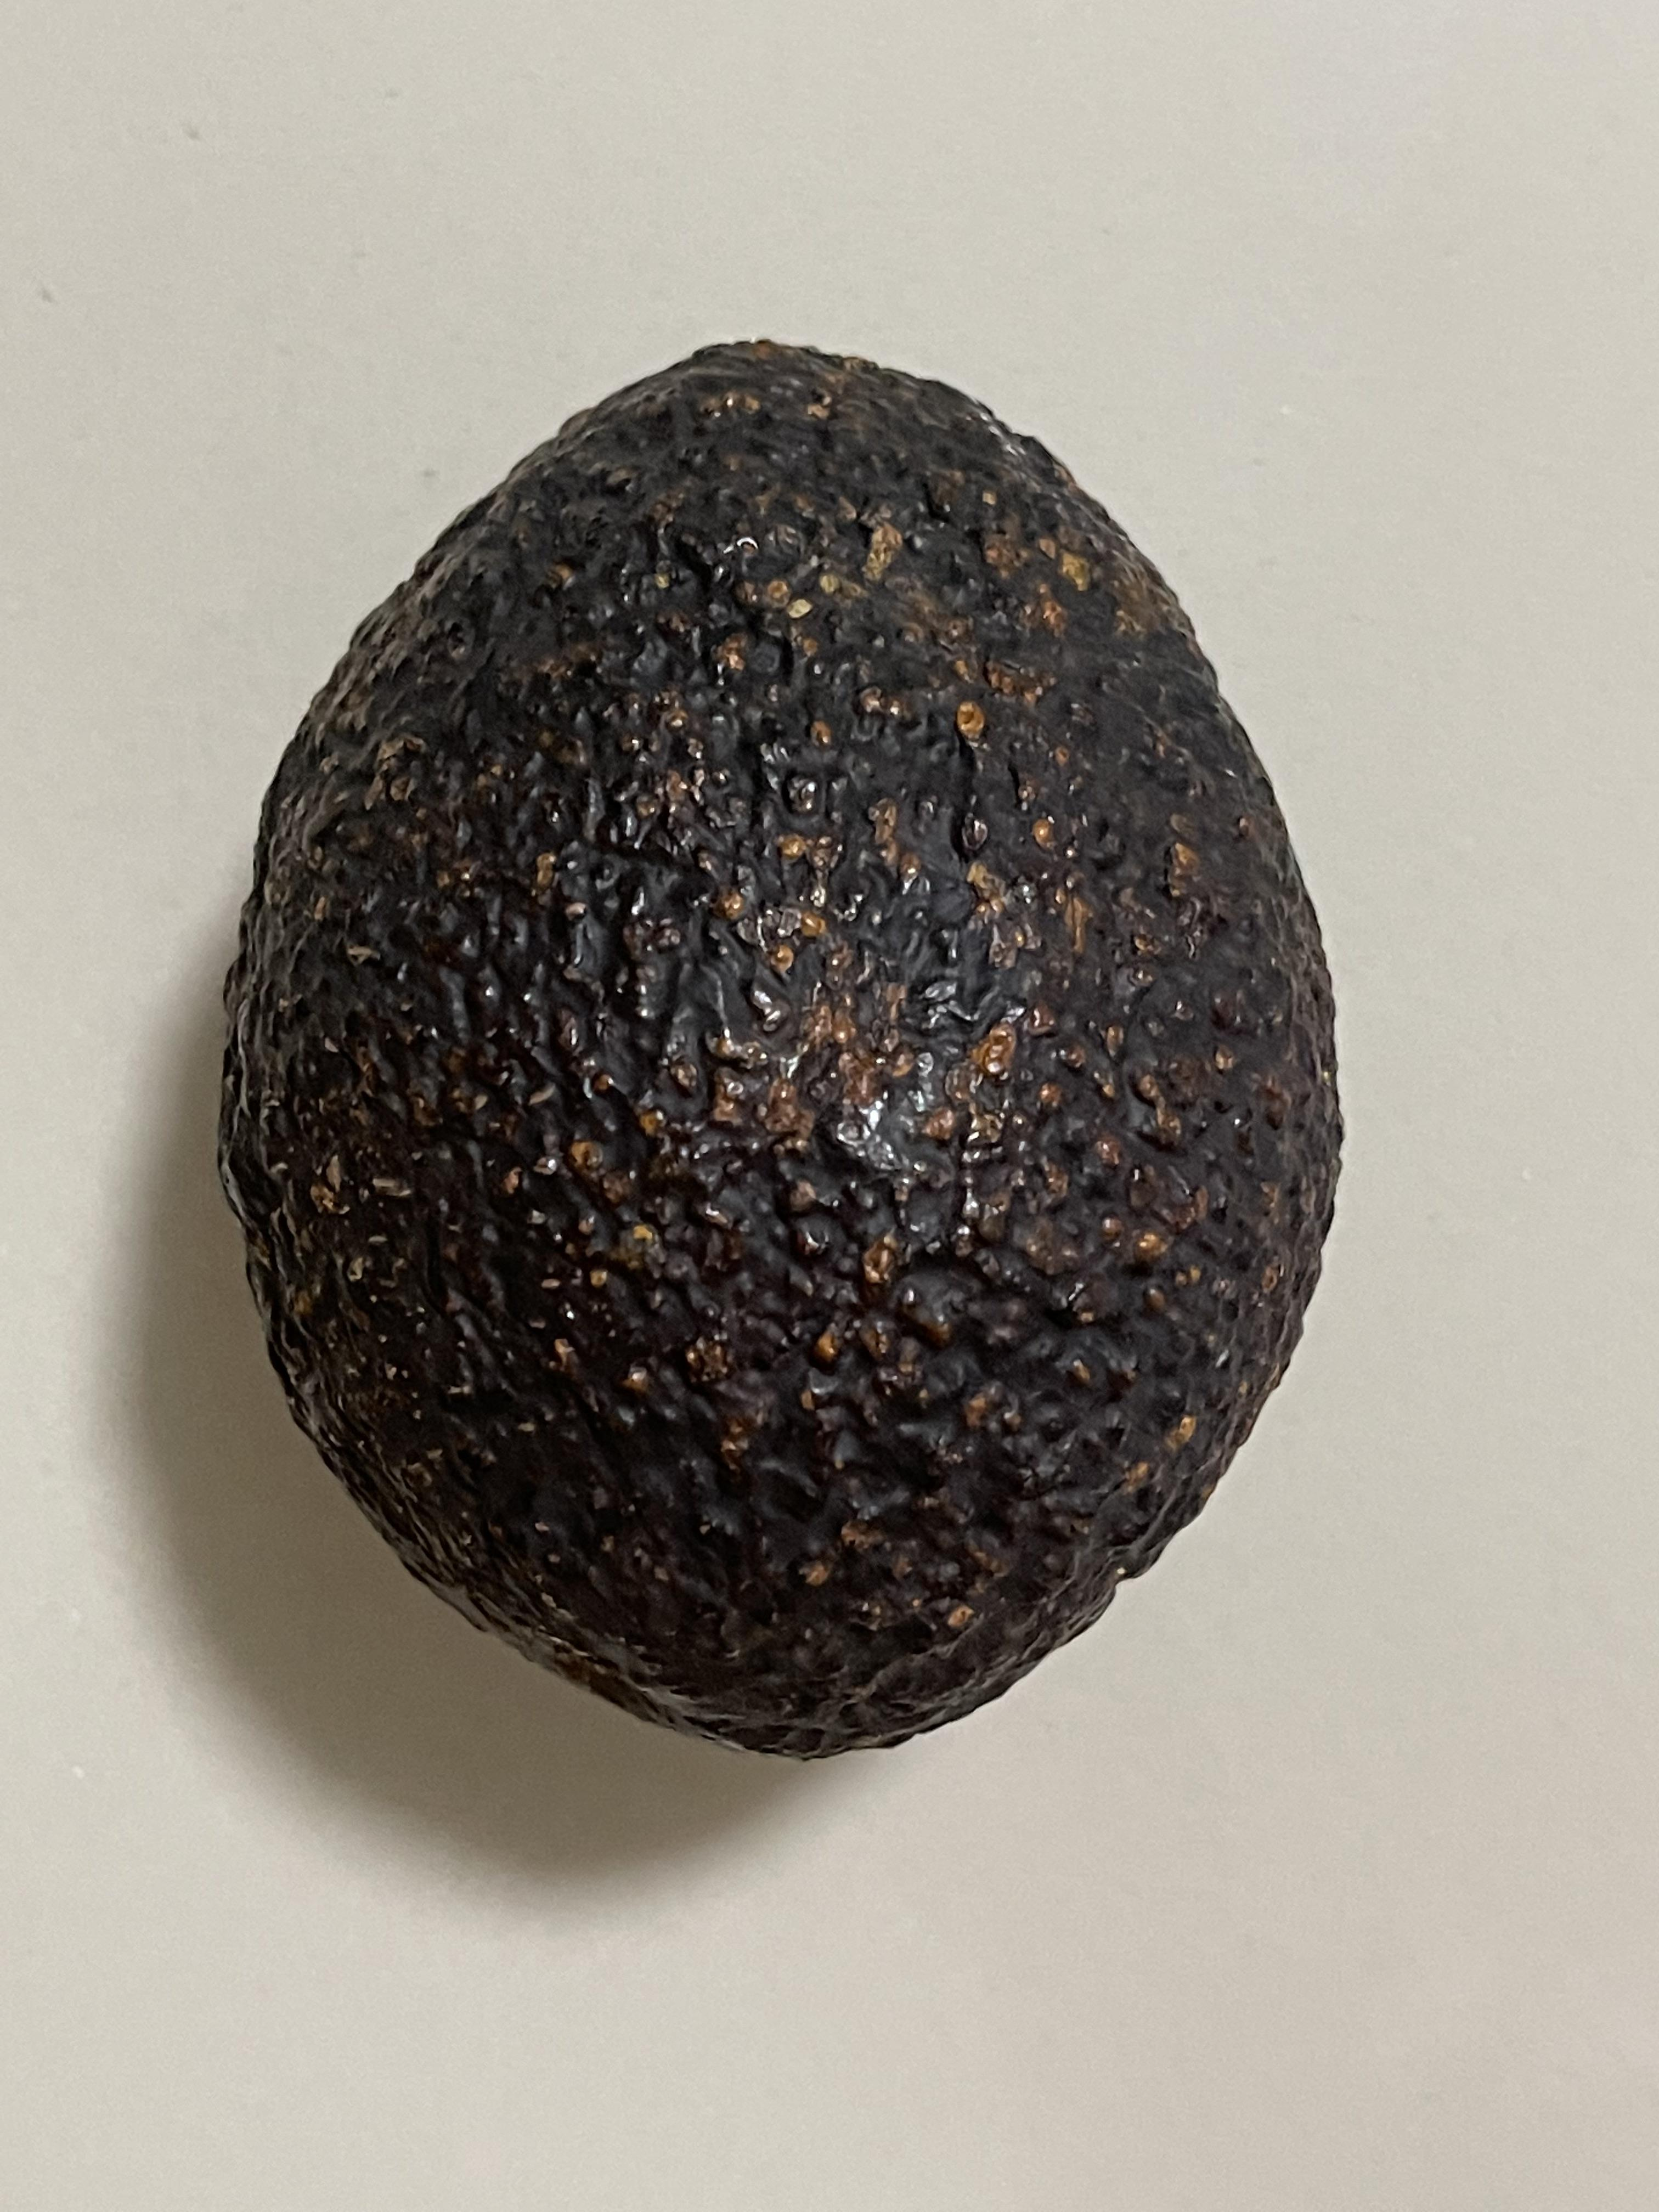Level3: (197, 301, 1384, 1785)
